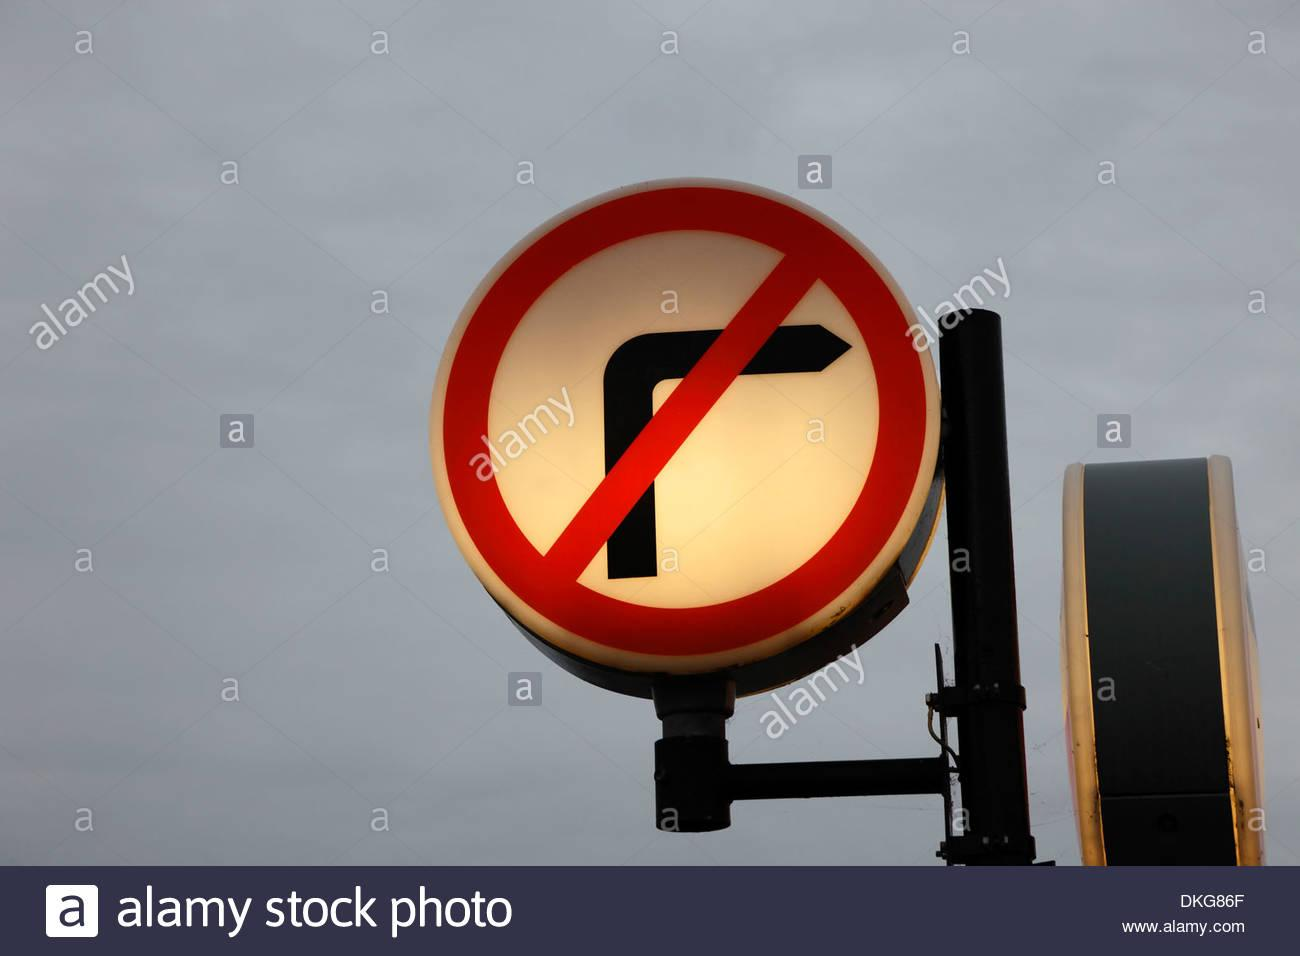no_right_turn: (427, 178, 943, 668)
